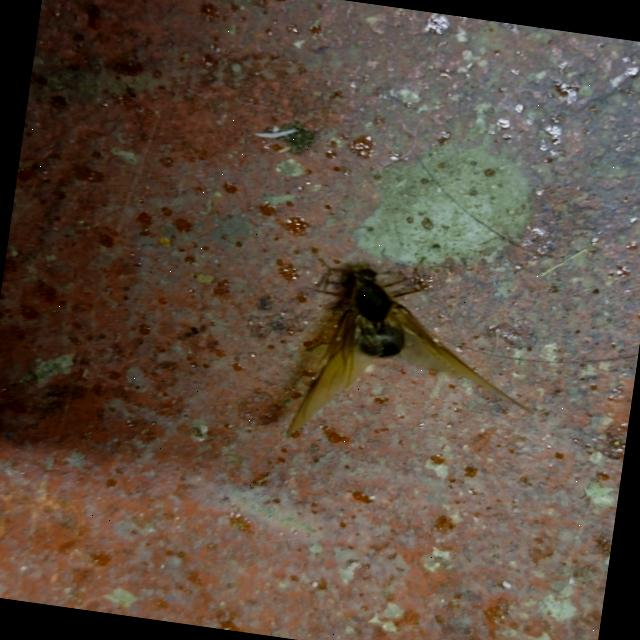Alive-Male-Alate: (286, 237, 554, 466)
